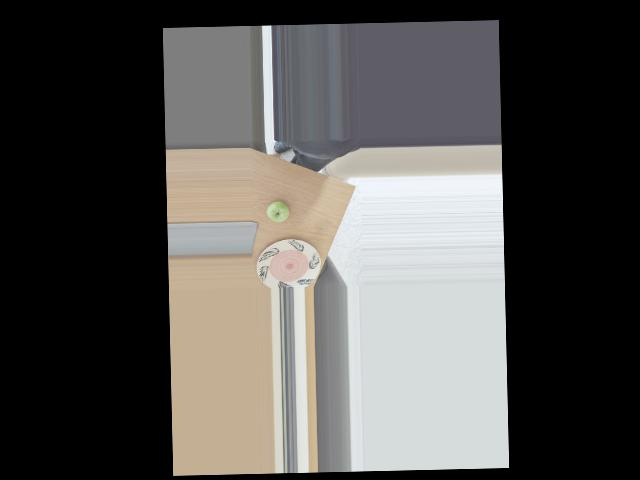apple: (266, 196, 293, 223)
